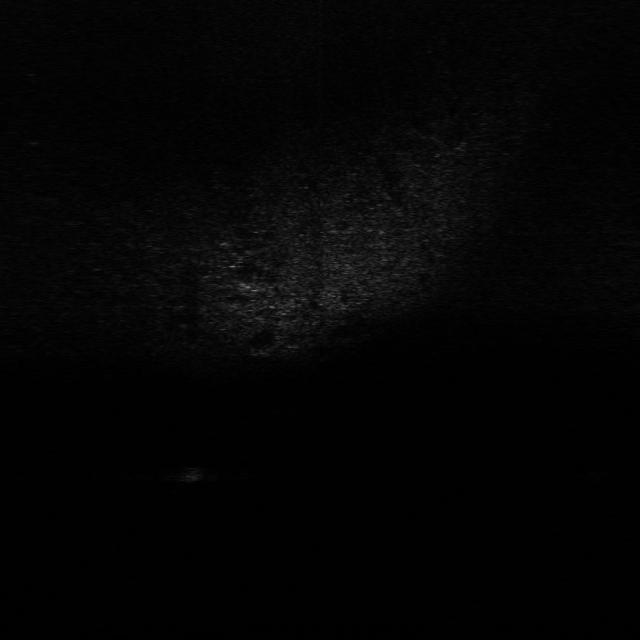cylinder: (178, 464, 201, 484)
